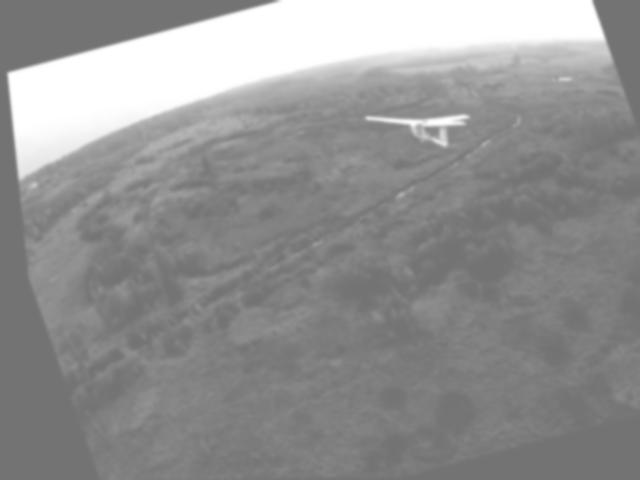hedef: (349, 81, 486, 181)
